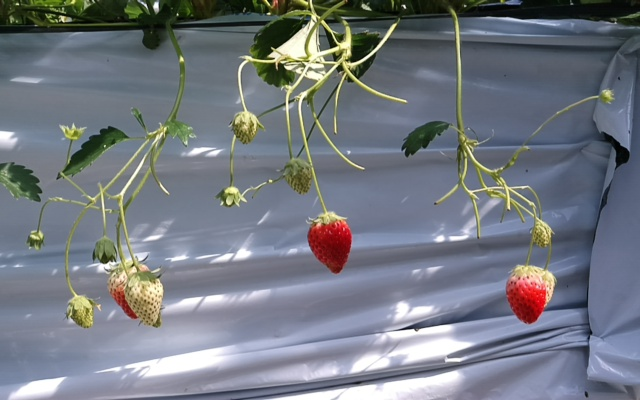GreenStrawberry: (111, 260, 149, 321), (126, 274, 163, 325), (278, 159, 314, 195), (231, 109, 262, 149), (67, 294, 96, 330), (531, 220, 556, 247)
MatureStrawberry: (305, 211, 353, 276), (503, 264, 548, 326)
